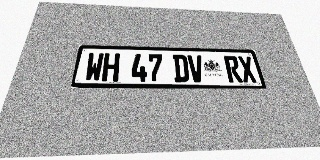4: (131, 54, 147, 82)
7: (148, 54, 163, 82)
D: (173, 54, 190, 82)
H: (101, 53, 120, 82)
R: (223, 56, 243, 82)
V: (187, 55, 205, 82)
W: (84, 52, 104, 81)
X: (237, 56, 258, 83)
